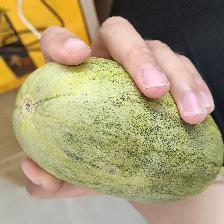gua: (16, 48, 222, 206)
